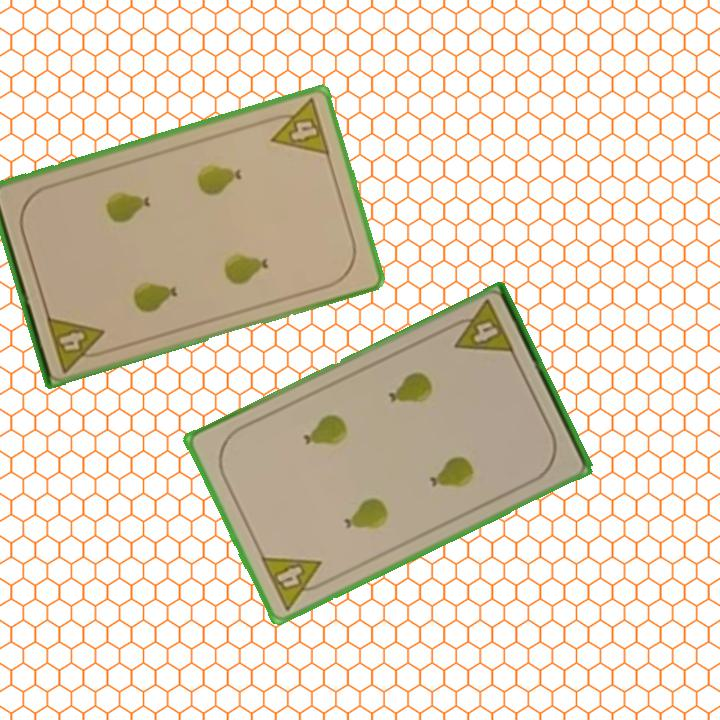4p: (443, 296, 518, 357), (257, 553, 333, 613), (262, 95, 333, 159), (43, 311, 112, 375)
